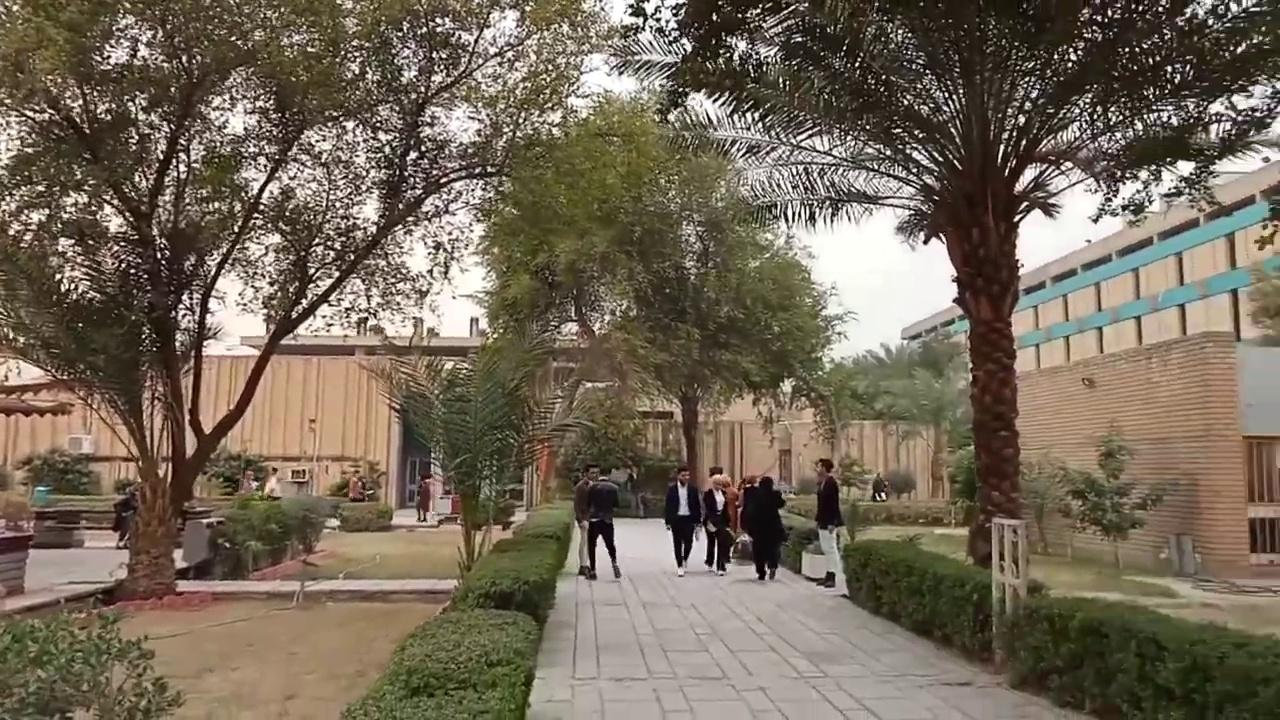person: (663, 465, 703, 576), (583, 466, 621, 580), (813, 457, 844, 588), (572, 462, 599, 576), (112, 489, 139, 549), (414, 472, 432, 522), (263, 465, 281, 500), (348, 469, 366, 501), (870, 471, 888, 501), (239, 468, 258, 494)
tree: (604, 0, 1278, 577), (0, 0, 619, 600), (472, 89, 856, 511), (353, 340, 537, 583), (826, 335, 967, 501), (1023, 425, 1172, 570), (175, 489, 331, 579), (334, 456, 393, 531)
